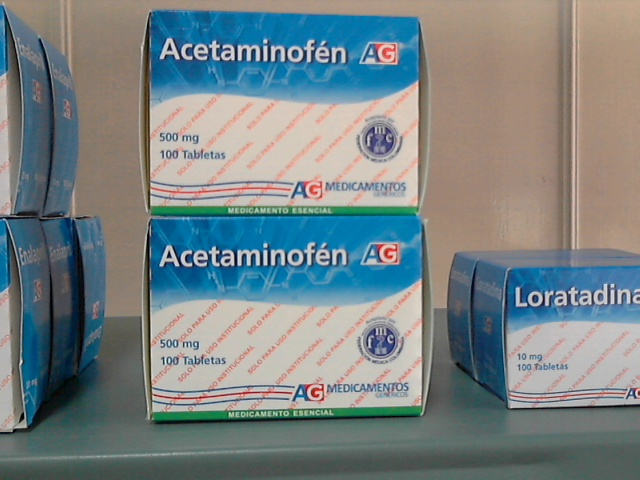AG: (151, 11, 417, 215), (151, 220, 421, 418)
